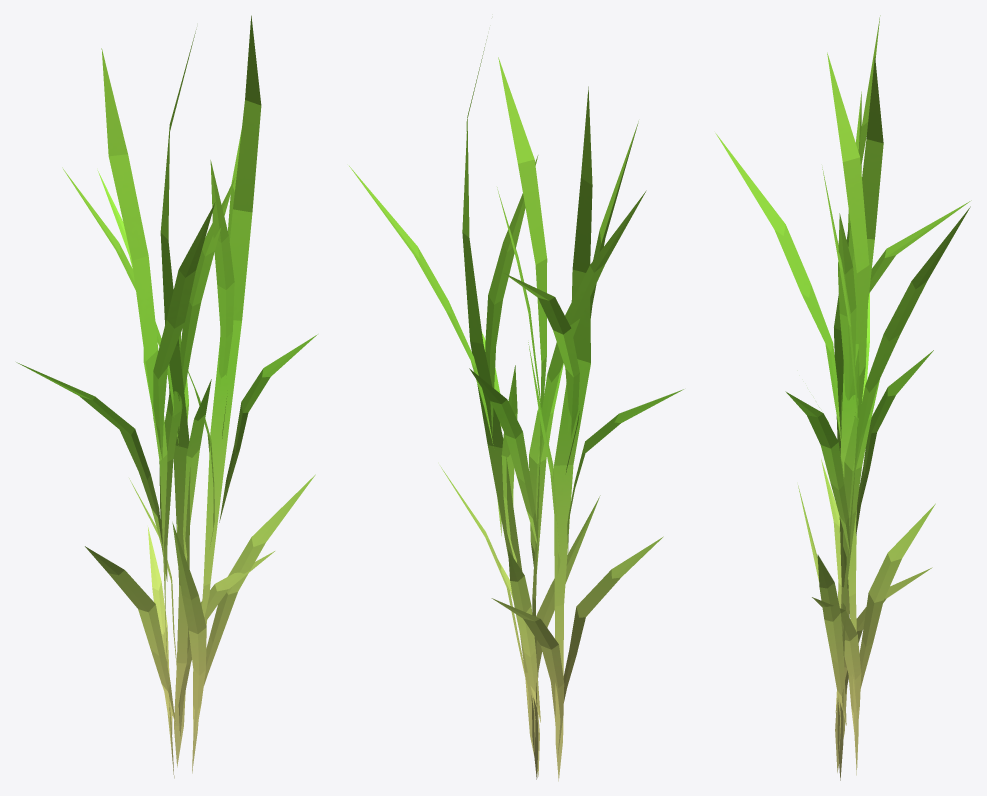
File: Rice5_LOD.fbx
3 views of the same model, side by side, from view 1: azimuth 30°, elevation 25°; view 2: azimuth 150°, elevation 25°; view 3: azimuth 270°, elevation 25° (orthographic).
Parts seen in each view (by area): view 1: Rice5_LOD0; view 2: Rice5_LOD0; view 3: Rice5_LOD0.
Boxes of the visible parts, x1,y1,x2,y2 form: Rice5_LOD0: (16,15,317,778); Rice5_LOD0: (349,36,683,781); Rice5_LOD0: (715,15,971,780).
Size of what is drawn, in the model's own units: 161 by 400 by 123.
1 material, 1 textured.
